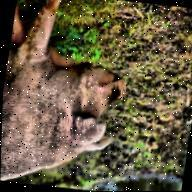boar: (0, 0, 139, 192)
